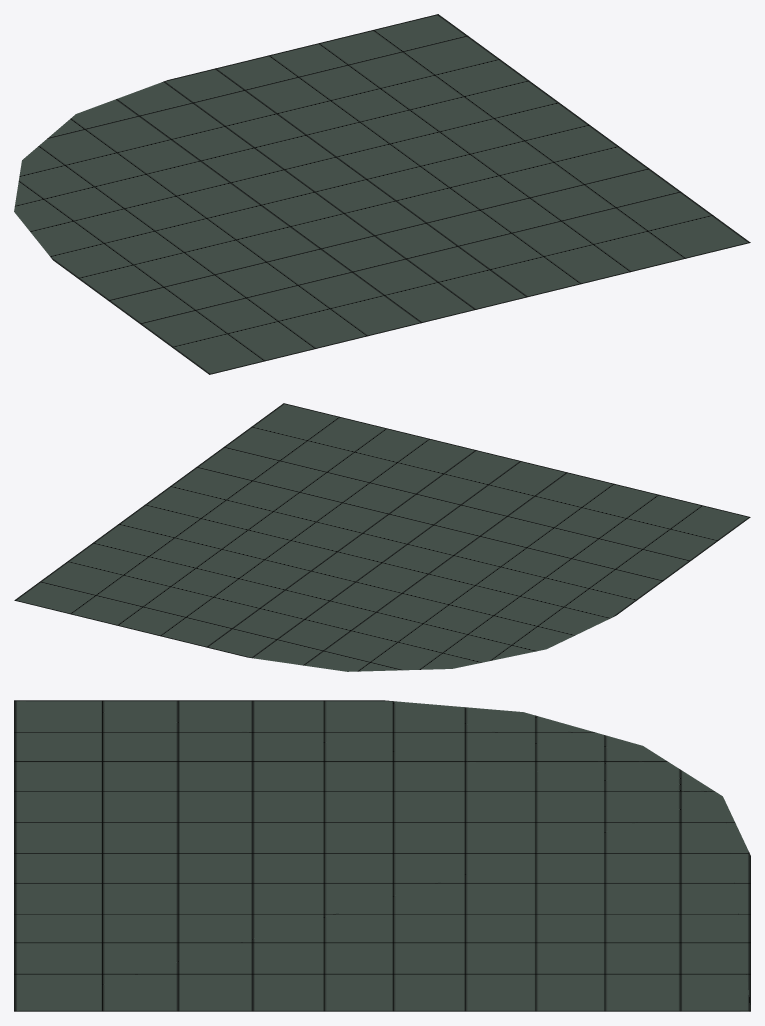
File: Curva1.fbx
3 renders of one model, top to bottom at view 1: azimuth 30°, elevation 25°; view 2: azimuth 150°, elevation 25°; view 3: azimuth 270°, elevation 25°, orthographic. The views are drawn at different scales.
Parts seen in each view (by area): view 1: pCube7; view 2: pCube7; view 3: pCube7.
Boxes of the visible parts, x1=… form: pCube7: x1=14, y1=14, x2=750, y2=374; pCube7: x1=14, y1=403, x2=750, y2=671; pCube7: x1=14, y1=700, x2=750, y2=1011.
Bounding box in the file's own units: 1 × 0 × 1.
Materials: 1 (1 with a texture image).
